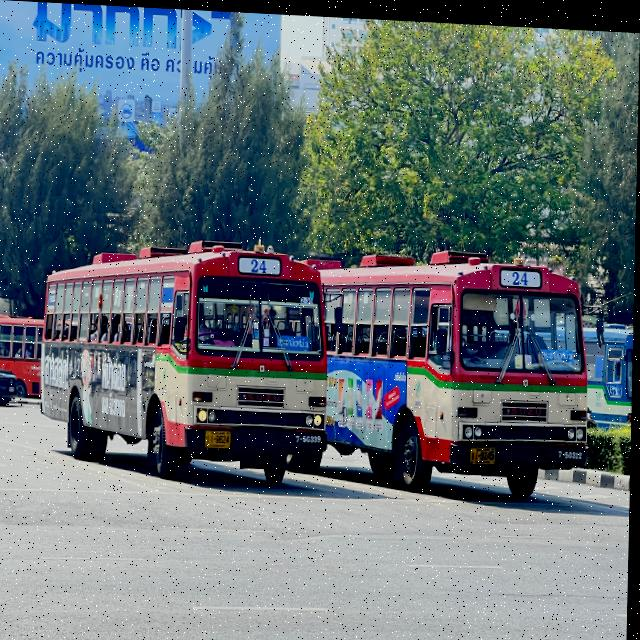BMTA-bus: (41, 240, 330, 484), (319, 248, 594, 495)
Bus Line Number: (238, 252, 287, 276), (501, 262, 546, 284)
Bus Side Number: (296, 429, 324, 442), (558, 442, 586, 455)
Destination Sign: (542, 343, 577, 366), (277, 330, 313, 349)
